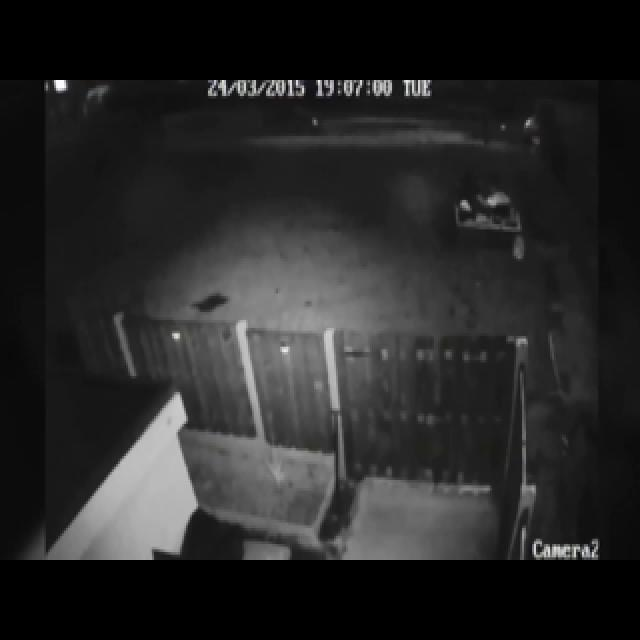shooting: (388, 86, 632, 570)
